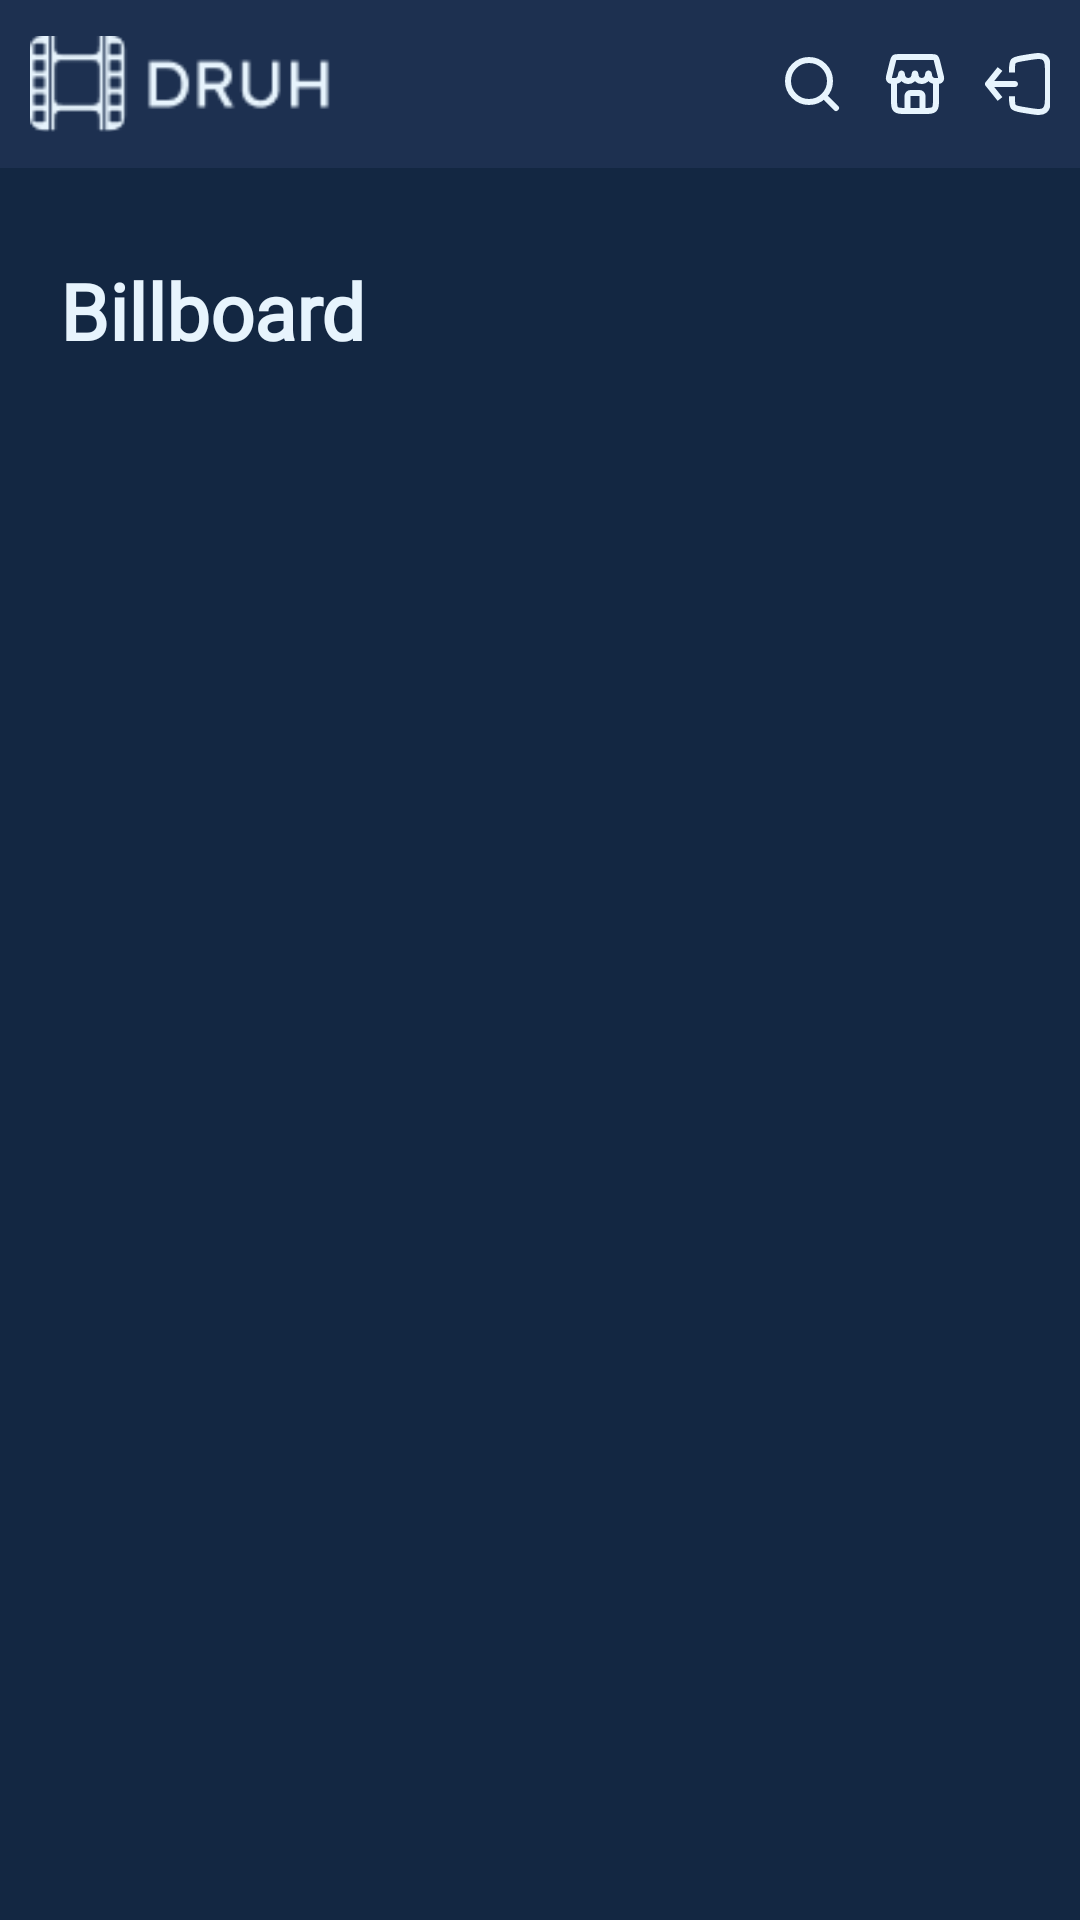

Icons on this 1080px×1920px Android screen, each with its box as BBox(x1, y1, x2, y2):
search: BBox(785, 57, 839, 111)
